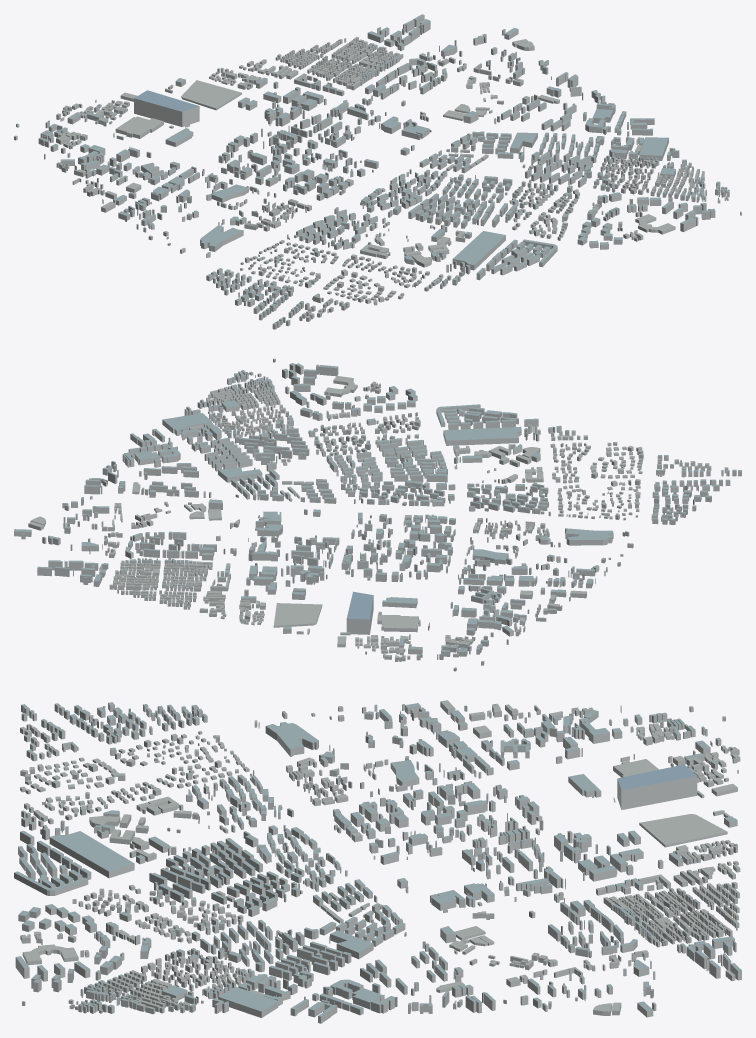
The model's file is far.glb.
3 views of the same model, one above another, from view 1: azimuth 30°, elevation 25°; view 2: azimuth 150°, elevation 25°; view 3: azimuth 270°, elevation 25° (orthographic). The views are drawn at different scales.
Bounding box in the file's own units: 2199 × 64 × 2126.
